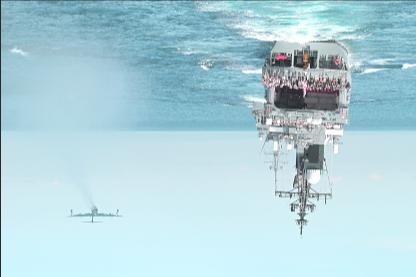Tu95: (64, 207, 122, 223)
